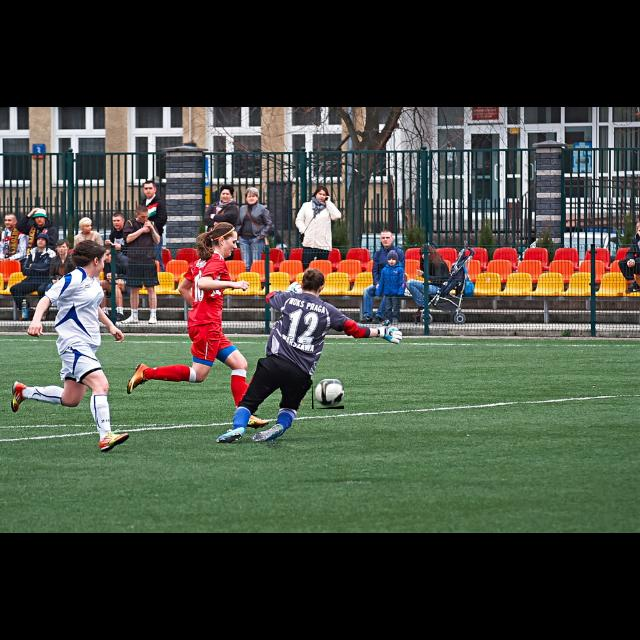Football: (312, 379, 344, 409)
